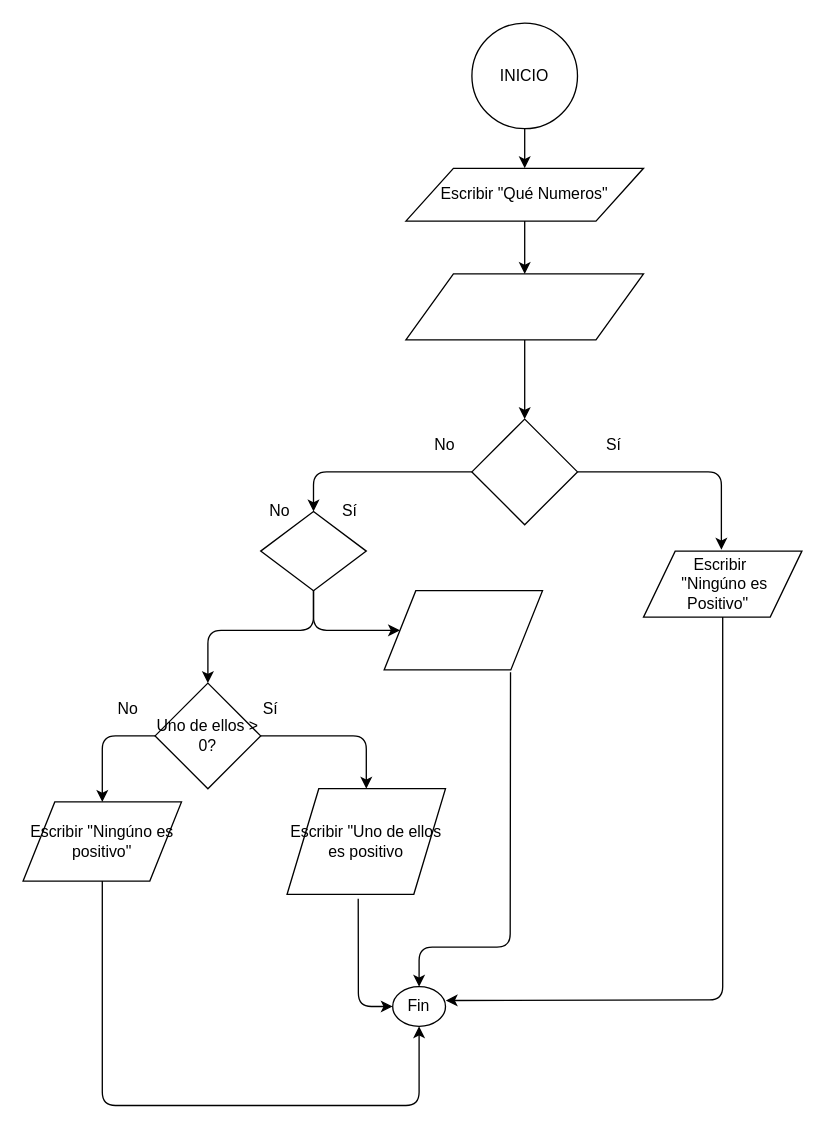
The diagram is 825 pixels wide and 1139 high, and some of its shapes have lost their labels. The centre of each missing label's shape, as x and y in pixels:
Escribir "Son Positivos": point (463, 629)
Leer Números: point (524, 306)
Números = 0?: point (524, 471)
Números > 0: point (312, 550)
